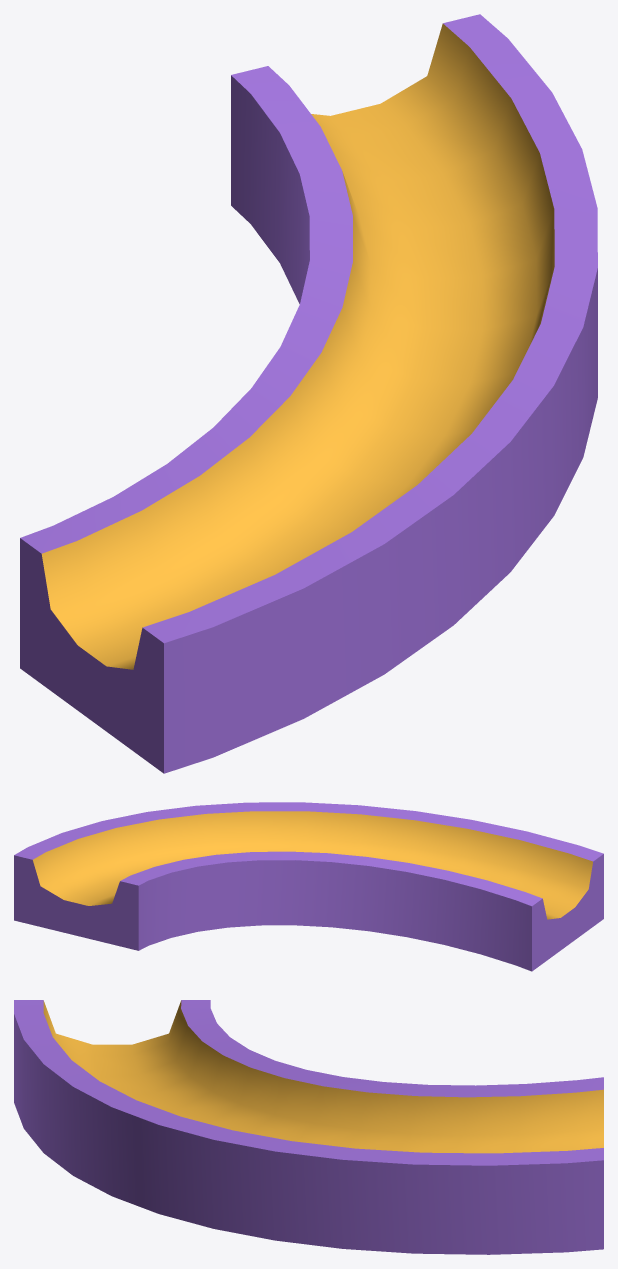
Rendered from helix-large-quarter-left-col.glb.
The picture shows the model from 3 angles, top to bottom: view 1: azimuth 30°, elevation 25°; view 2: azimuth 150°, elevation 25°; view 3: azimuth 270°, elevation 25°; orthographic projection. The views are drawn at different scales.
Visible parts, largest first — view 1: helix-large-quarter-left-col; view 2: helix-large-quarter-left-col; view 3: helix-large-quarter-left-col.
Part boxes in pixels (x1=…): helix-large-quarter-left-col: x1=20, y1=14, x2=597, y2=773; helix-large-quarter-left-col: x1=14, y1=802, x2=603, y2=971; helix-large-quarter-left-col: x1=14, y1=1000, x2=603, y2=1254.
Bounding box in the file's own units: 3 × 1 × 3.
1 material, 1 textured.
